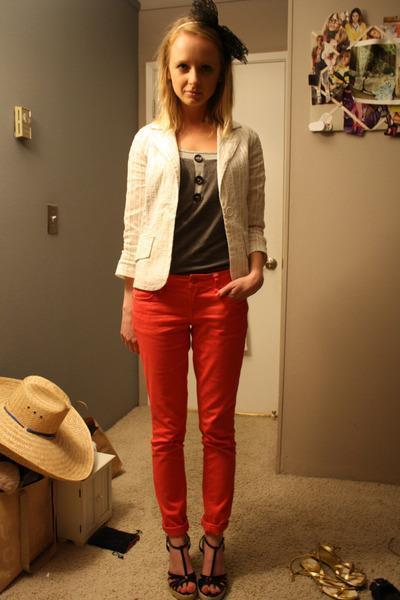jacket: (115, 112, 266, 289)
pants: (132, 271, 248, 539)
shirt: (169, 145, 229, 275)
shoe: (168, 542, 233, 599)
